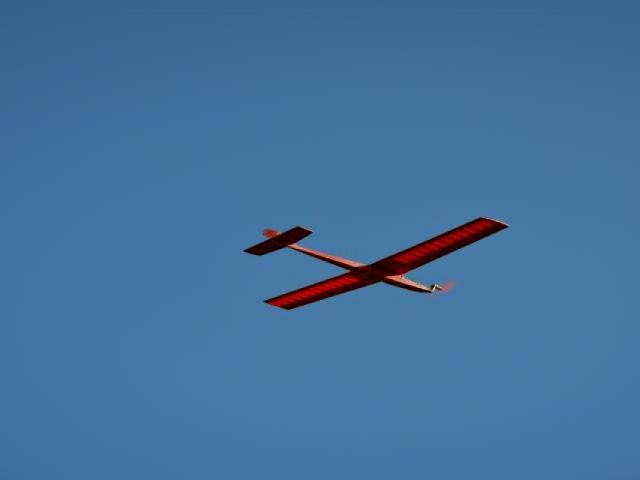iha: (238, 207, 519, 317)
